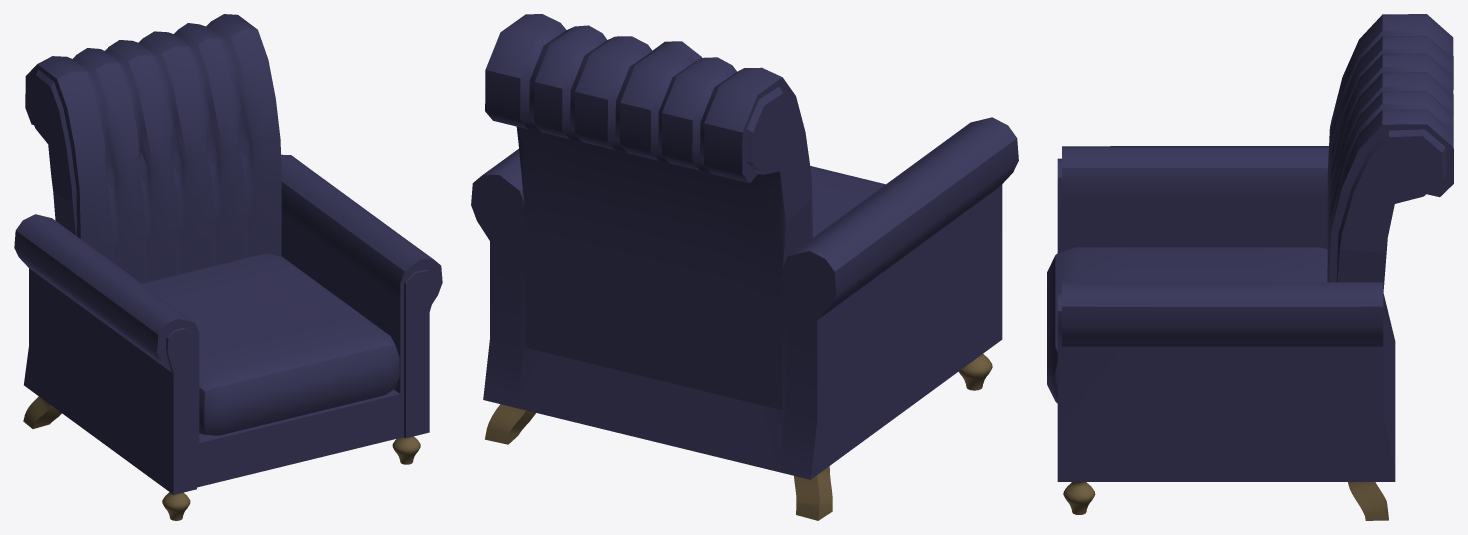
File: Armchair.fbx
3 views of the same model, side by side, from view 1: azimuth 30°, elevation 25°; view 2: azimuth 150°, elevation 25°; view 3: azimuth 270°, elevation 25° (orthographic). The views are drawn at different scales.
Parts seen in each view (by area): view 1: ArmChair; view 2: ArmChair; view 3: ArmChair.
Part boxes in pixels (x1,y1,x2,y2): ArmChair: [14, 14, 442, 520]; ArmChair: [471, 14, 1018, 520]; ArmChair: [1047, 14, 1453, 520].
Bounding box in the file's own units: 89.76 × 103 × 98.39.
